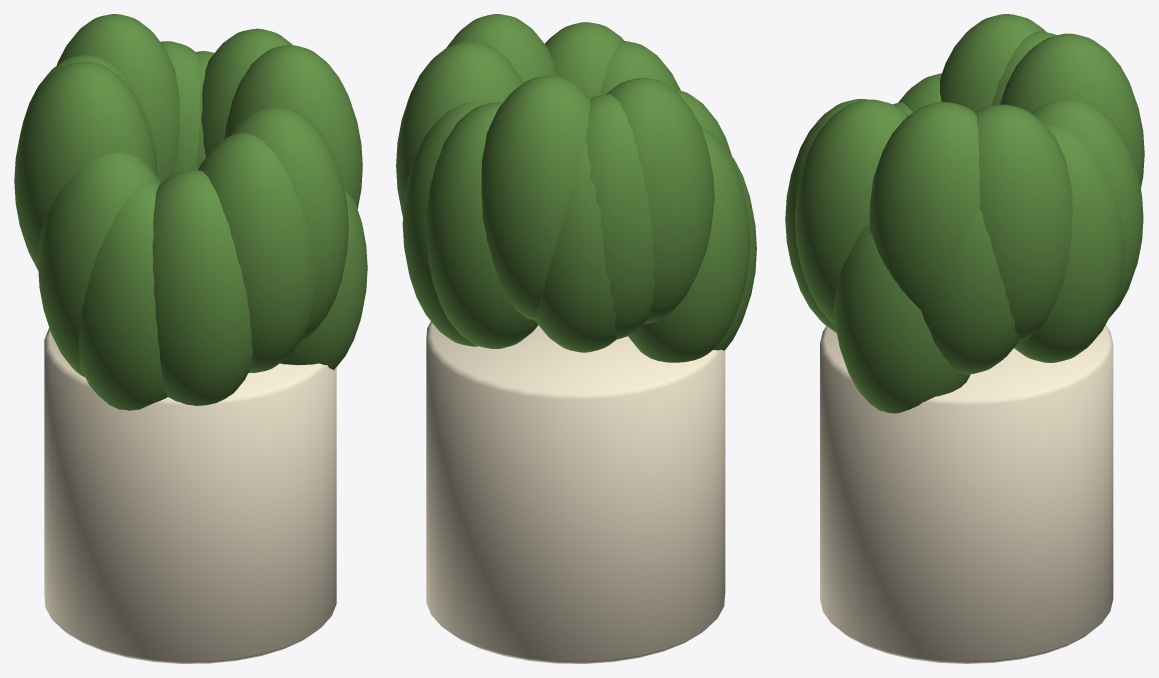
File: SM_EG_HerbPlanter_V03_fe6faf26c8.fbx
3 renders of one model, left to right at view 1: azimuth 30°, elevation 25°; view 2: azimuth 150°, elevation 25°; view 3: azimuth 270°, elevation 25°, orthographic. The views are drawn at different scales.
Visible parts, largest first — view 1: SM_EG_HerbPlanter_V03_fe6faf26c8; view 2: SM_EG_HerbPlanter_V03_fe6faf26c8; view 3: SM_EG_HerbPlanter_V03_fe6faf26c8.
Boxes of the visible parts, bbox=[...] form: SM_EG_HerbPlanter_V03_fe6faf26c8: bbox=[14, 14, 367, 663]; SM_EG_HerbPlanter_V03_fe6faf26c8: bbox=[396, 14, 756, 663]; SM_EG_HerbPlanter_V03_fe6faf26c8: bbox=[785, 14, 1144, 663].
Size of what is drawn, in the model's own units: 59.72 by 61.31 by 105.
